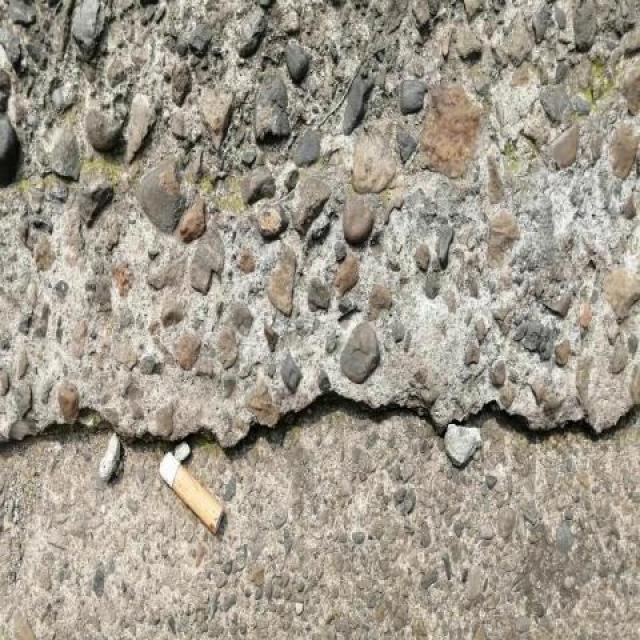non-organic waste: (154, 445, 229, 546)
